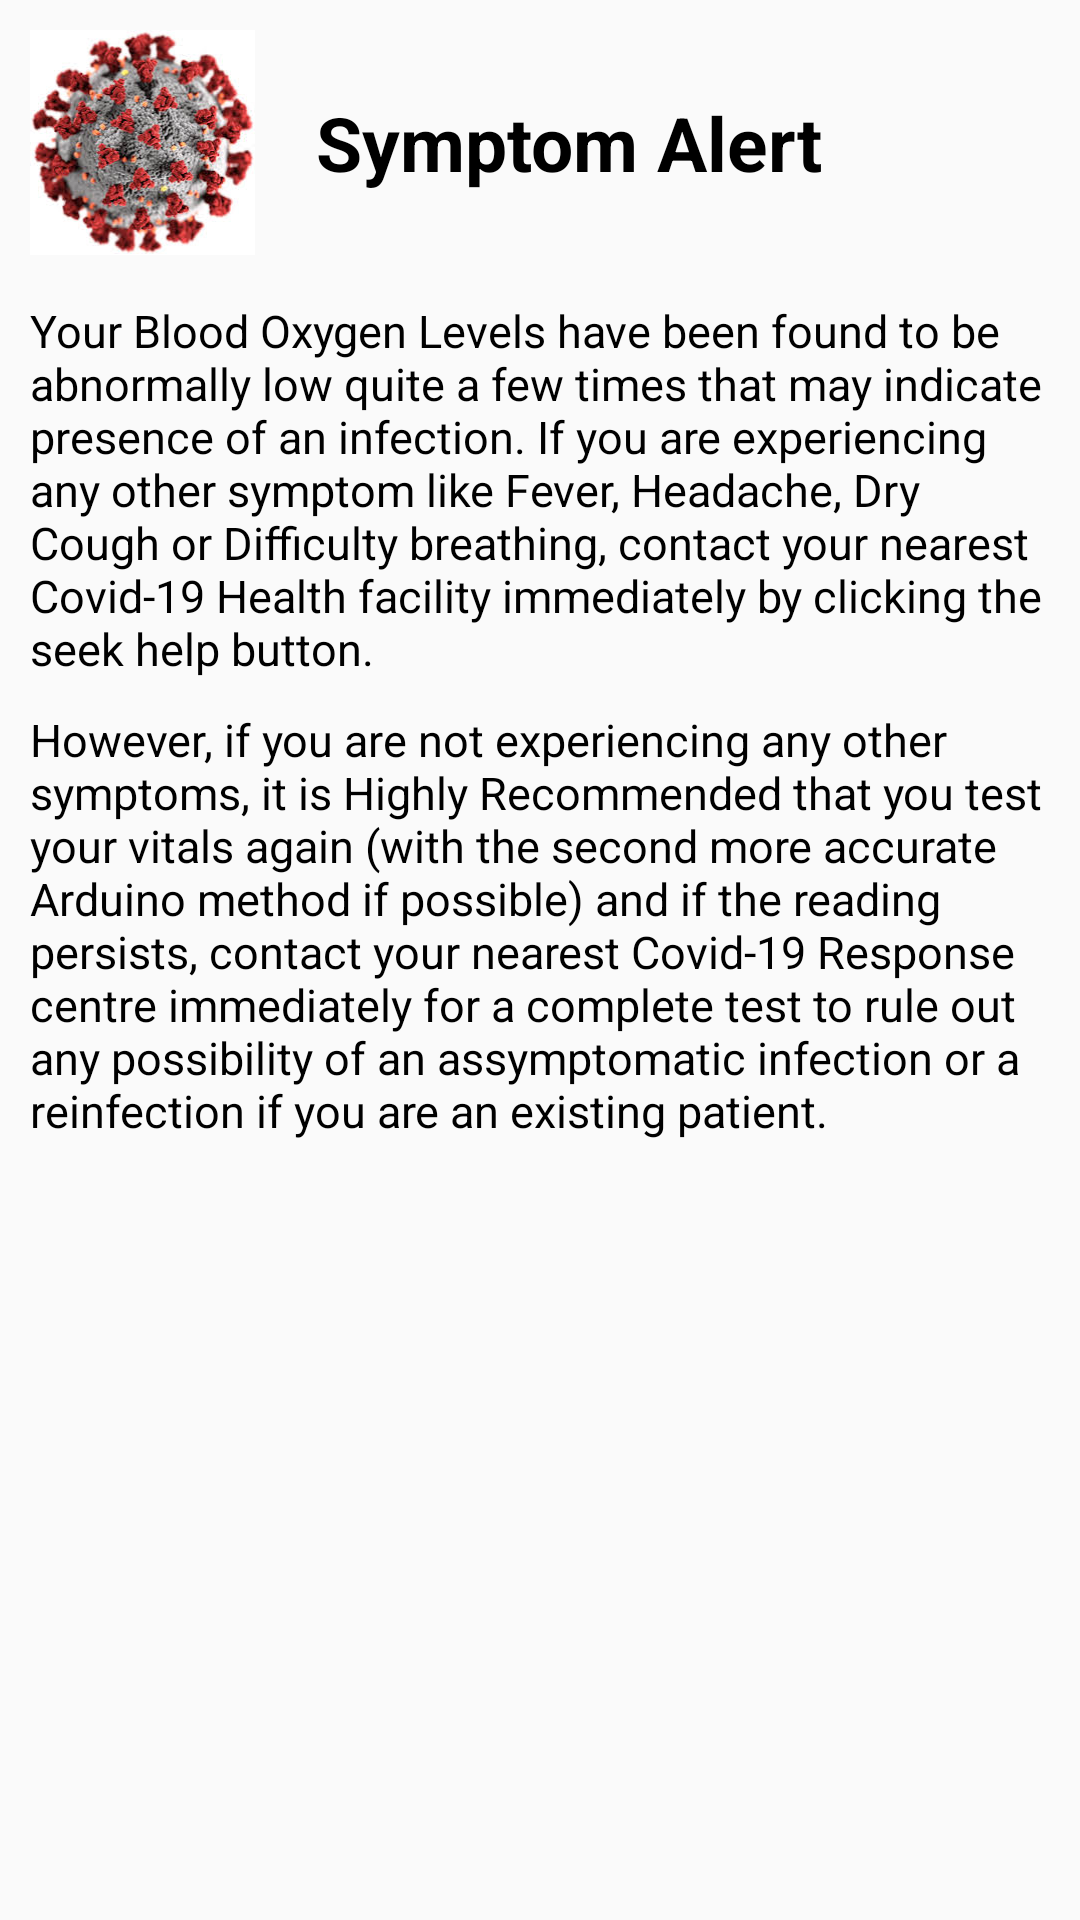

Icons on this 1080x1920 Android screen, each with its box as (x1, y1, x2, y2):
virus: (32, 32, 253, 253)
